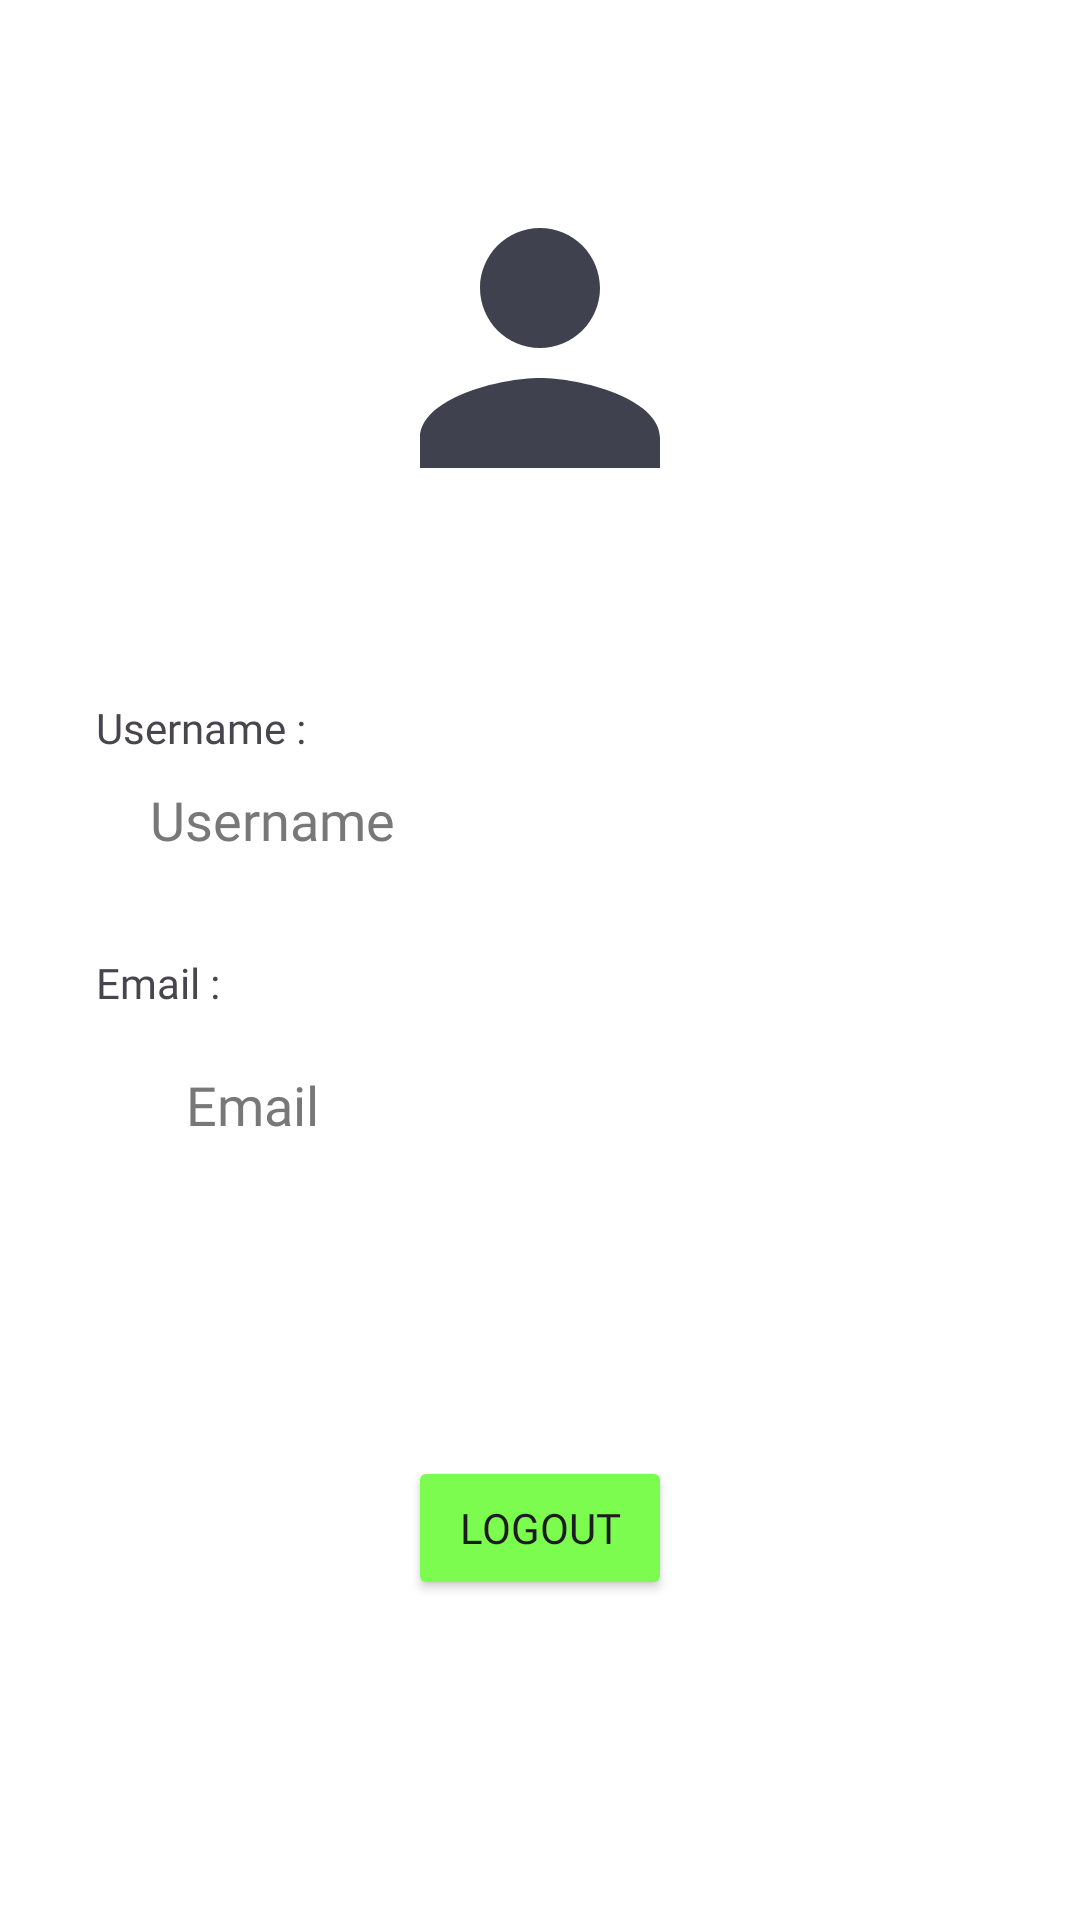

Screen size 1080px x 1920px. Icon name, then its box in pixels as Rect(x1, y1, x2, y2):
person: Rect(420, 228, 660, 468)
